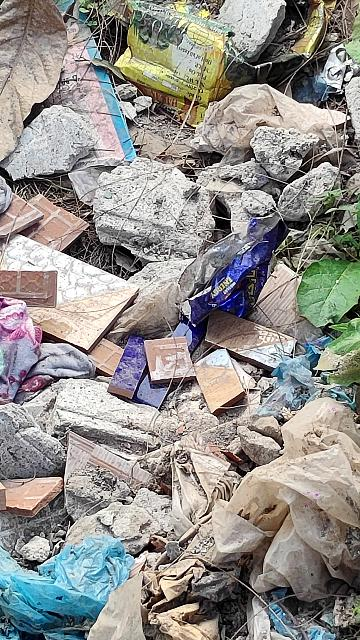packet: (171, 217, 293, 334)
